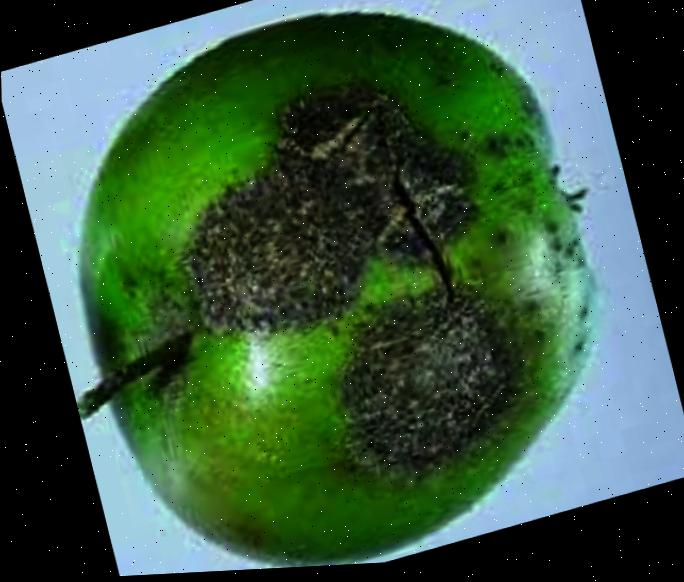SCAB: (4, 0, 664, 582)
